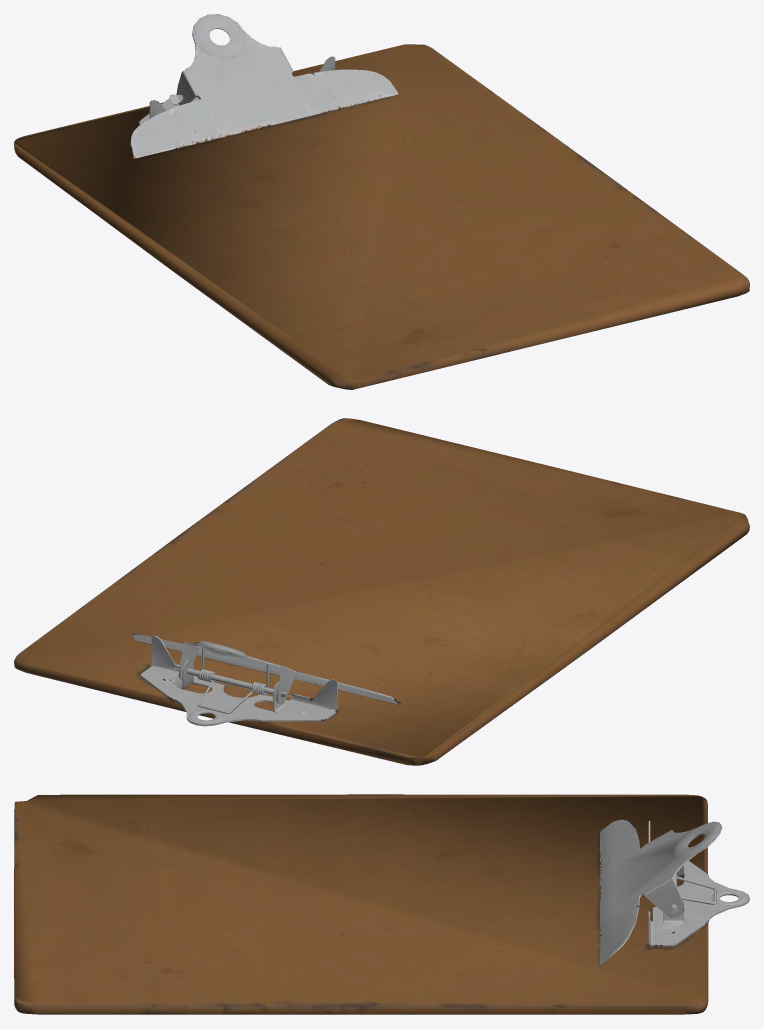
The model's file is clipboard.glb.
3 renders of one model, top to bottom at view 1: azimuth 30°, elevation 25°; view 2: azimuth 150°, elevation 25°; view 3: azimuth 270°, elevation 25°, orthographic. The views are drawn at different scales.
Visible parts, largest first — view 1: clipboard; view 2: clipboard; view 3: clipboard.
Boxes of the visible parts, left/top/right/bottom form: clipboard: left=14, top=14, right=749, bottom=389; clipboard: left=14, top=418, right=749, bottom=765; clipboard: left=14, top=794, right=749, bottom=1014.
Bounding box in the file's own units: 0.2285 × 0.042 × 0.3365.
1 material, 1 textured.
